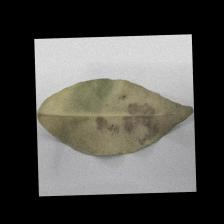canker: (88, 91, 166, 147)
